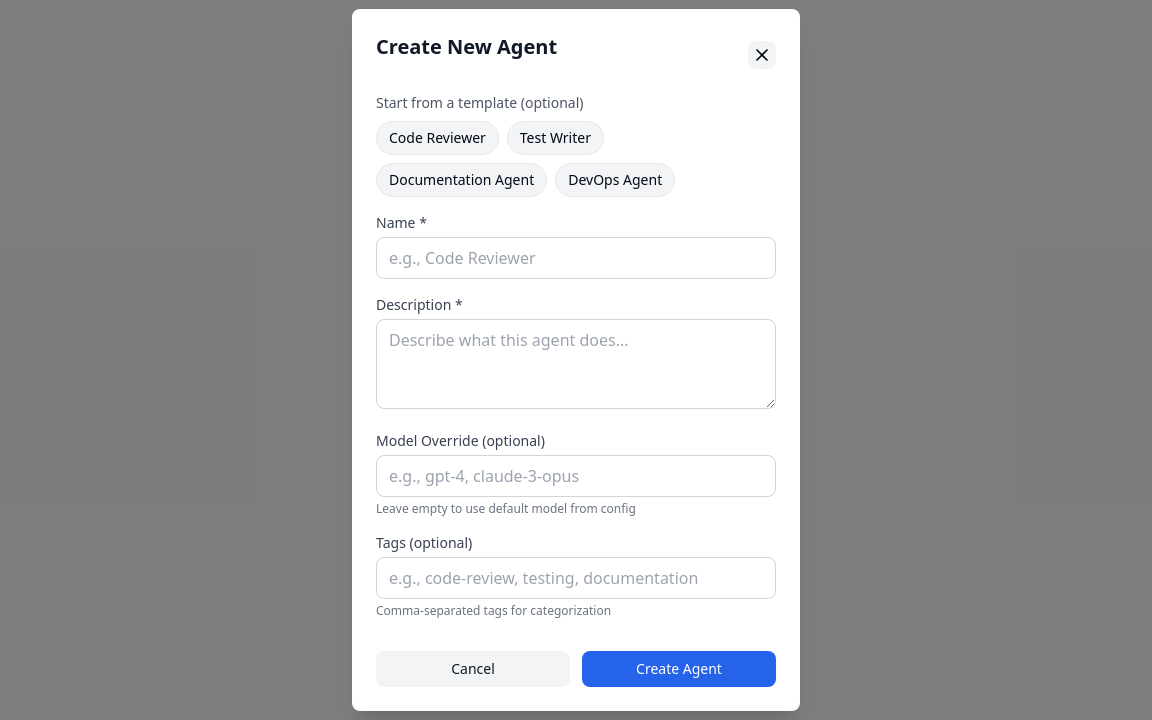
CreateAgentModal › template selection › switches between templates
Click the button "Code Reviewer".
click(437, 138)  # box [376,121,499,155]
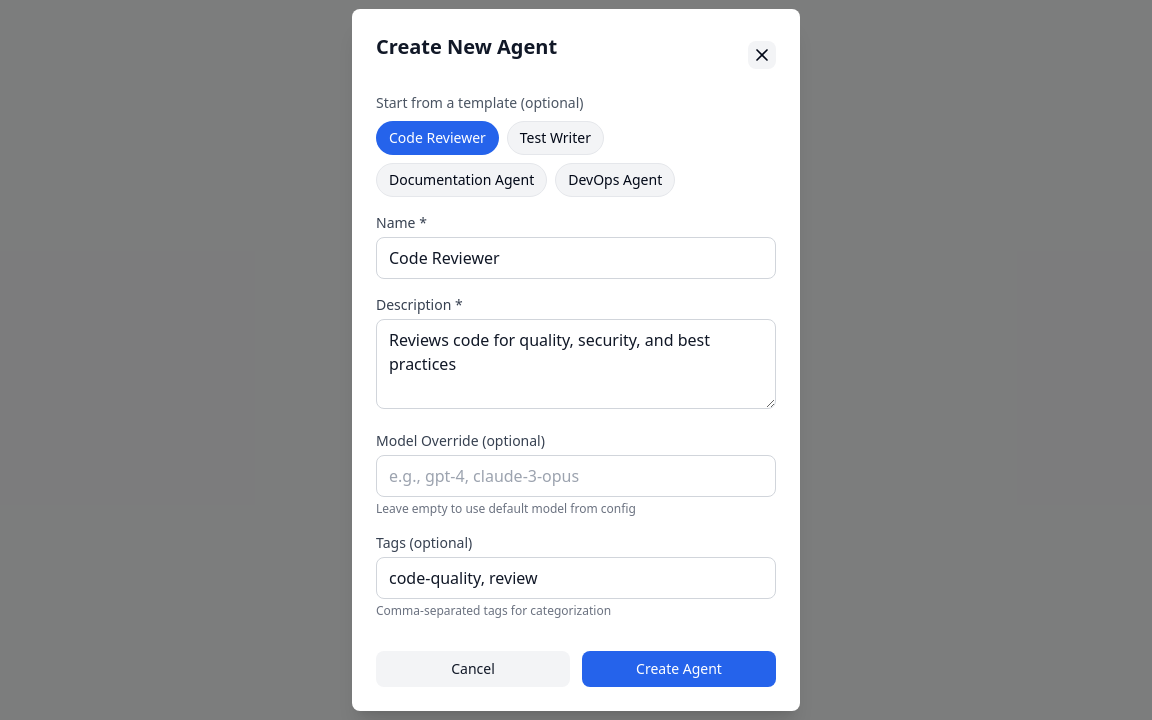
Expected: the field labelled "Name *" holds "Code Reviewer", [376,237,776,279]
Click the button "Test Writer".
click(555, 138)  # box [507,121,604,155]
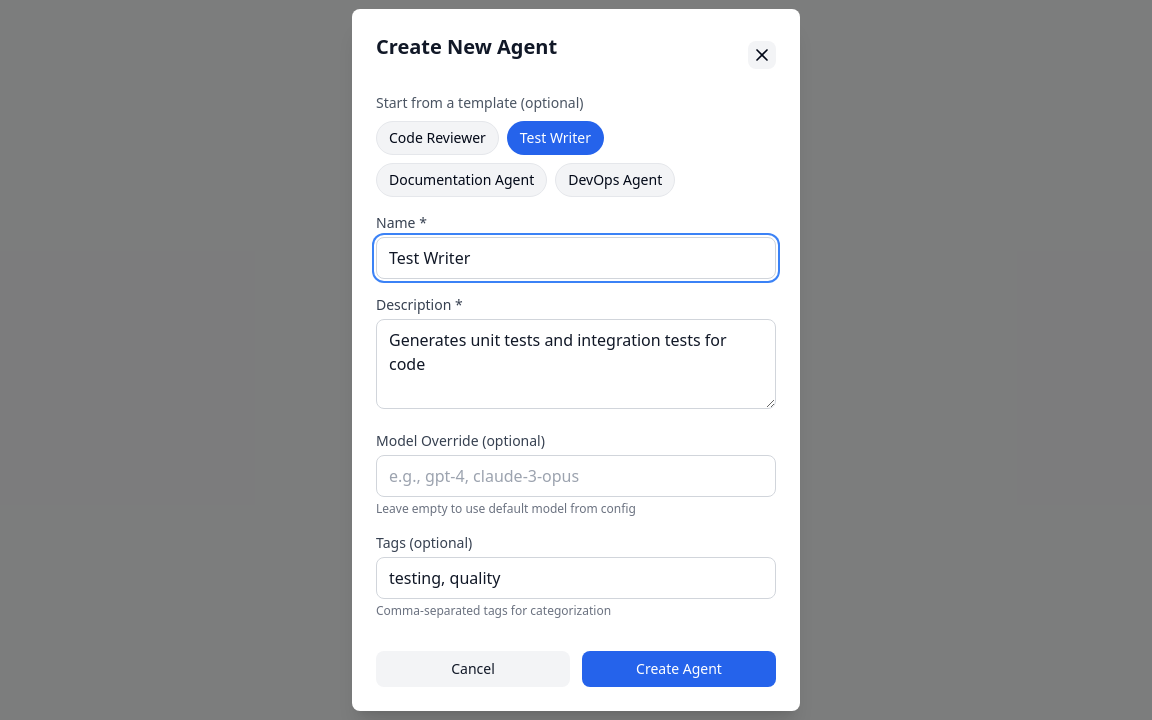
Expected: the field labelled "Name *" holds "Test Writer", [376,237,776,279]
Expected: the text box labelled "Description *" holds "Generates unit tests and integration tests for code", [376,319,776,409]
